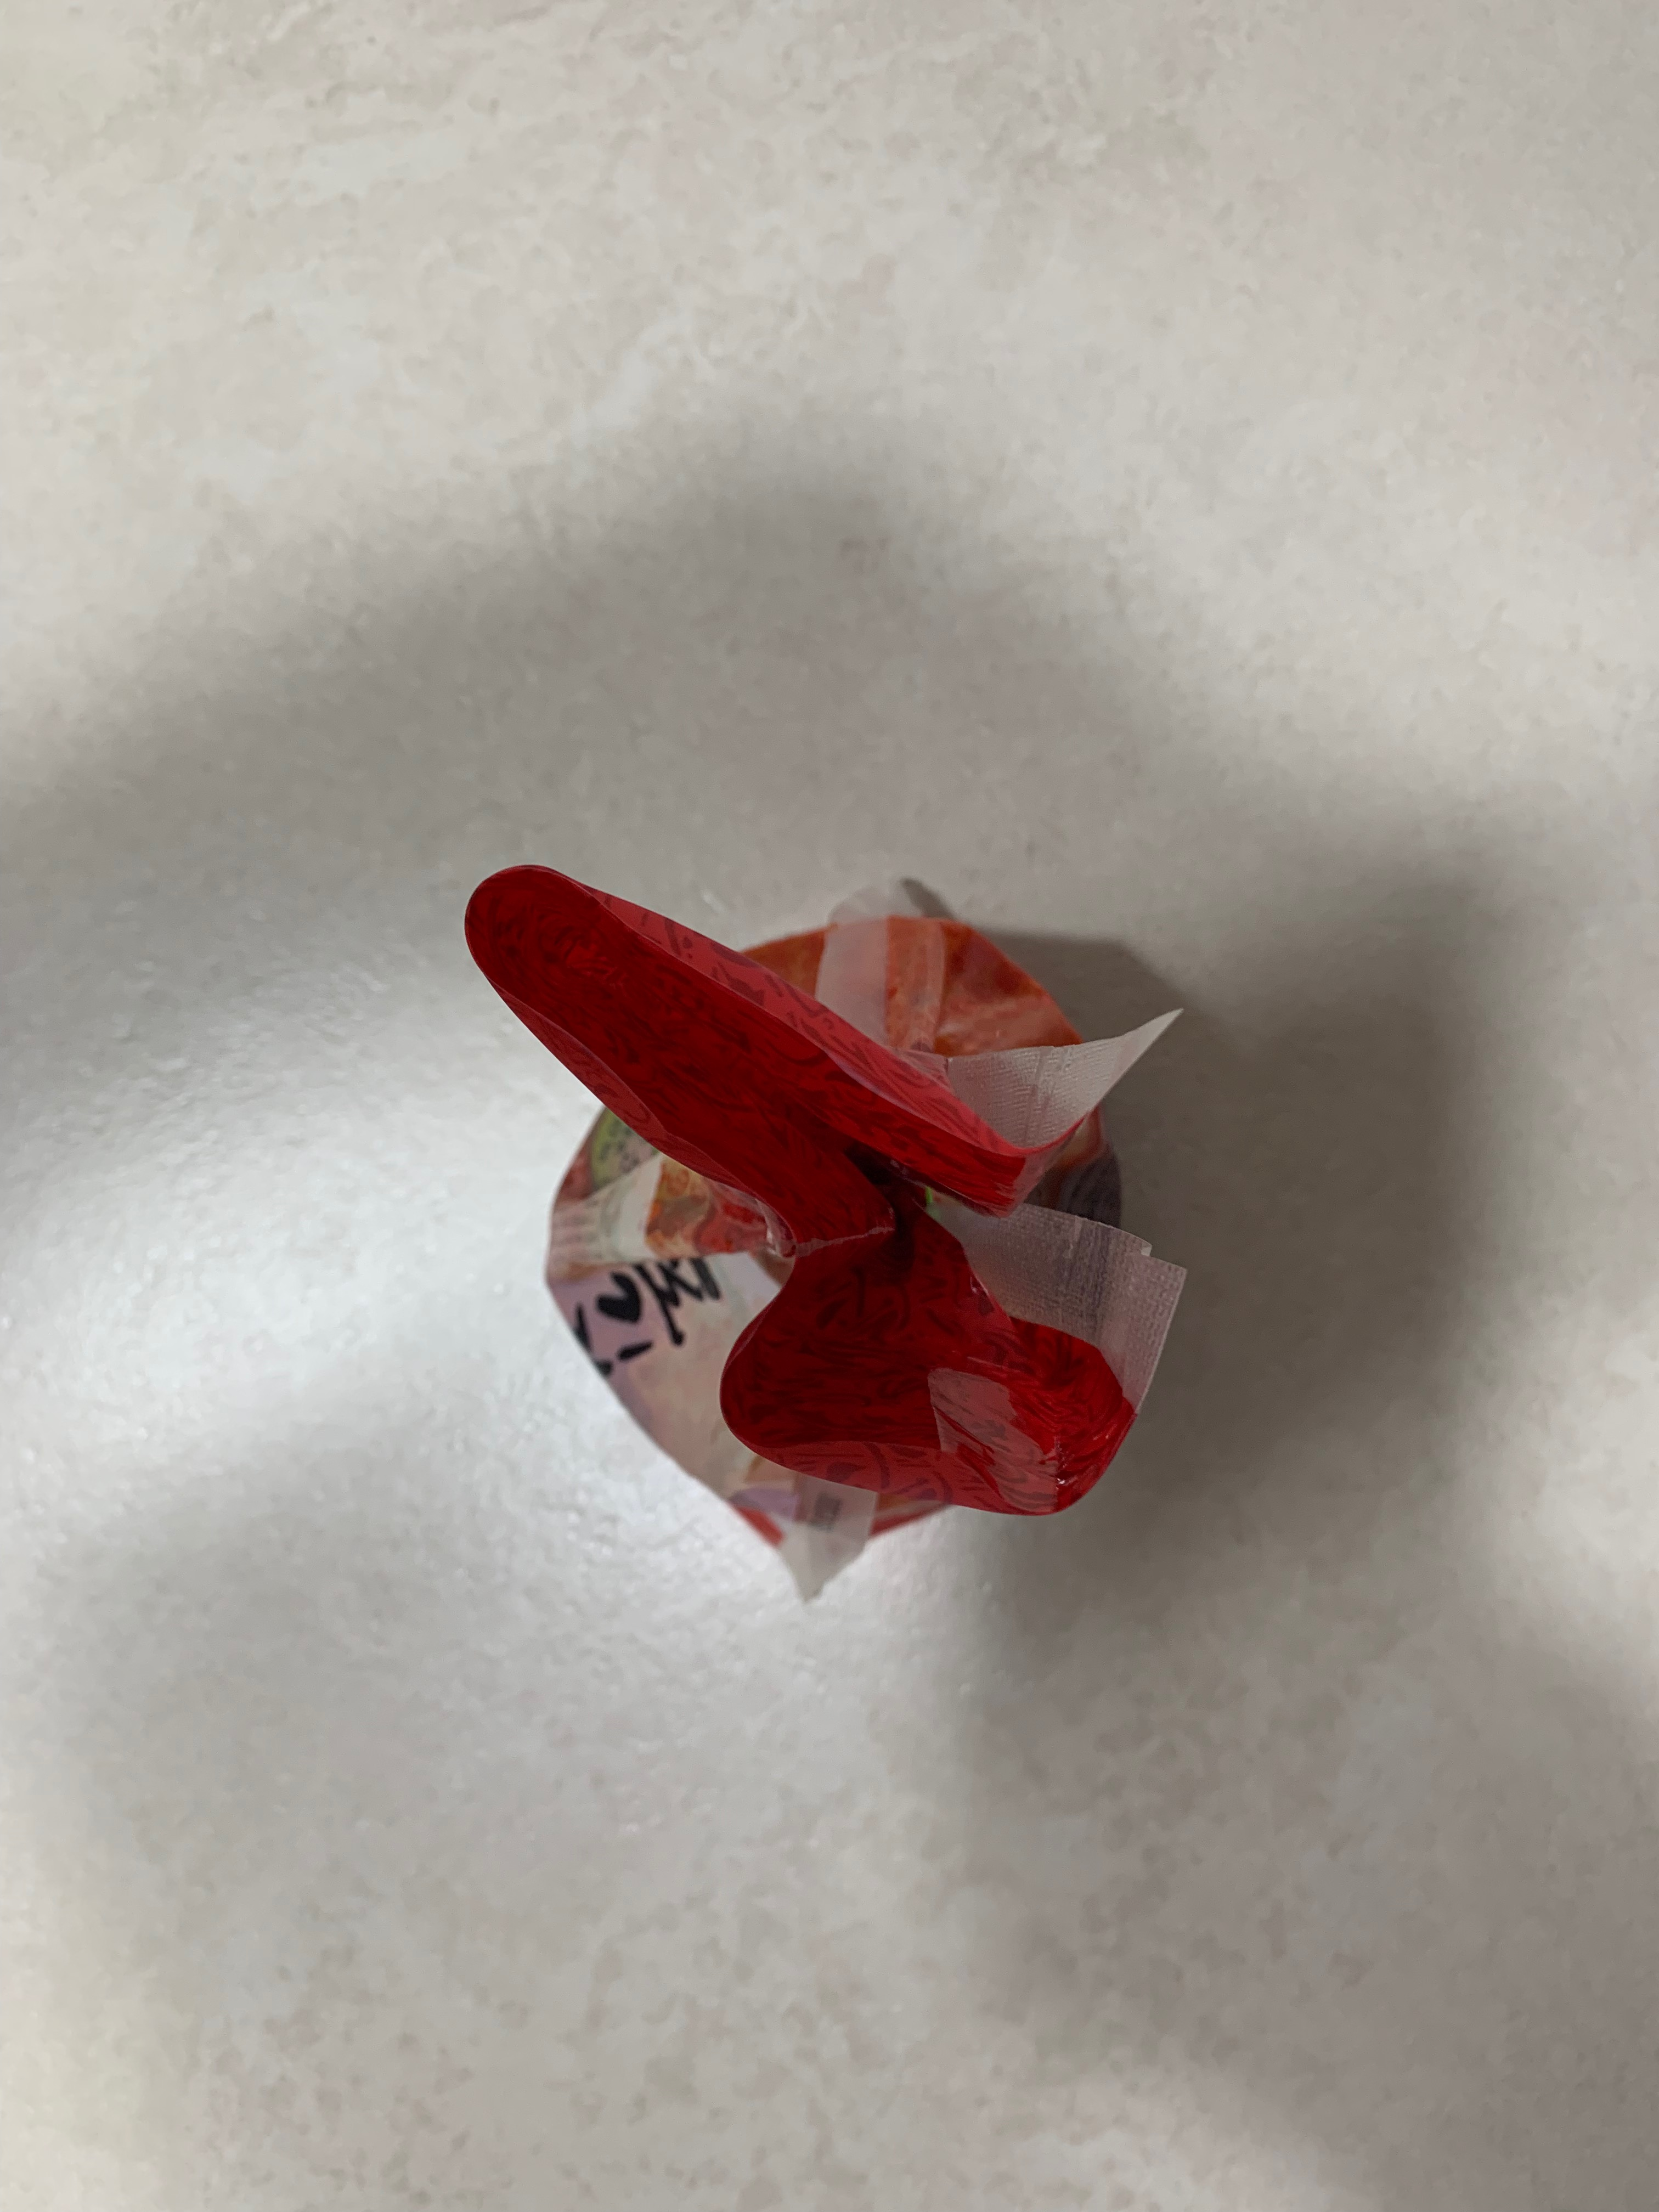kimchi: (465, 862, 1150, 1559)
